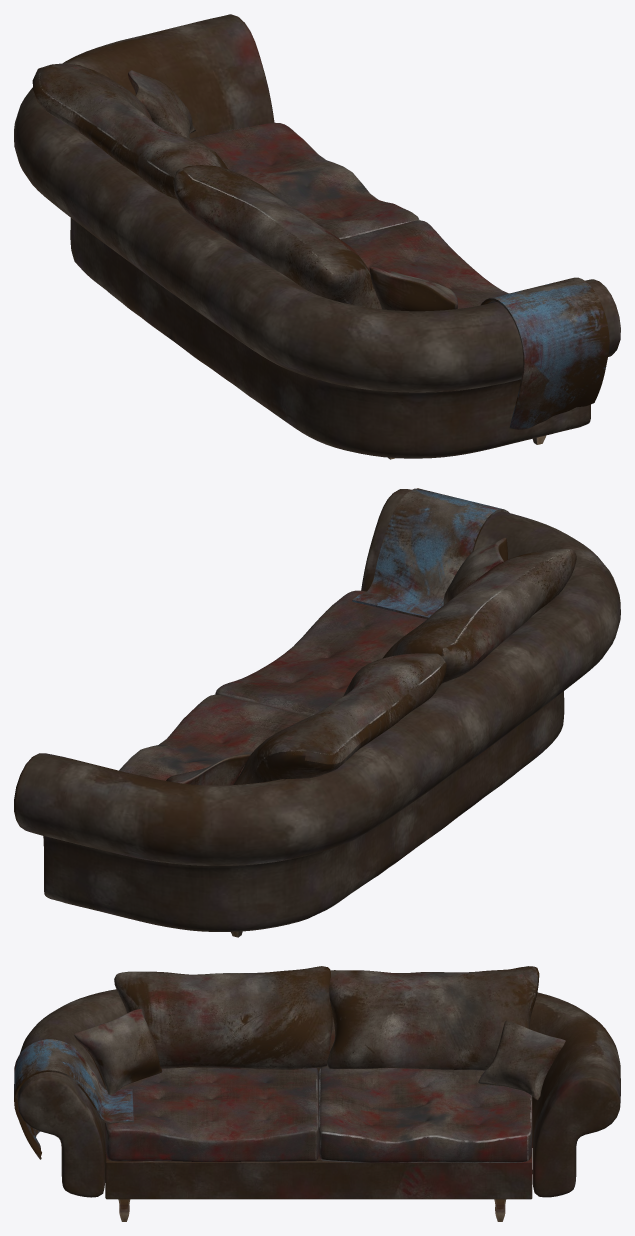
File: sofa.gltf
3 renders of one model, top to bottom at view 1: azimuth 30°, elevation 25°; view 2: azimuth 150°, elevation 25°; view 3: azimuth 270°, elevation 25°, orthographic. The views are drawn at different scales.
Parts seen in each view (by area): view 1: Retopo_sofa_arm.001, Retopo_left large cushion.002, rag.001, cushion_2.001, Retopo_right large cushion, left cushion, Cube_3, cusion; view 2: Retopo_sofa_arm.001, Retopo_right large cushion, left cushion, Retopo_left large cushion.002, rag.001, cushion_2.001, Cube_3, cusion; view 3: Retopo_sofa_arm.001, cushion_2.001, Retopo_left large cushion.002, Retopo_right large cushion, left cushion, Cube_1_2, rag.001, Cube_3, cusion.
Part boxes in pixels (left/top/right/bottom): Retopo_sofa_arm.001: left=14, top=14, right=620, bottom=458; Retopo_left large cushion.002: left=173, top=165, right=381, bottom=309; rag.001: left=481, top=277, right=609, bottom=429; cushion_2.001: left=190, top=122, right=419, bottom=239; Retopo_right large cushion: left=32, top=63, right=227, bottom=199; left cushion: left=341, top=220, right=508, bottom=308; Cube_3: left=369, top=266, right=457, bottom=311; cusion: left=128, top=70, right=195, bottom=138; Retopo_sofa_arm.001: left=14, top=489, right=620, bottom=931; Retopo_right large cushion: left=233, top=653, right=446, bottom=784; left cushion: left=215, top=590, right=426, bottom=716; Retopo_left large cushion.002: left=382, top=548, right=576, bottom=683; rag.001: left=352, top=488, right=509, bottom=619; cushion_2.001: left=119, top=694, right=309, bottom=780; Cube_3: left=443, top=537, right=507, bottom=604; cusion: left=166, top=754, right=250, bottom=785; Retopo_sofa_arm.001: left=17, top=989, right=620, bottom=1197; cushion_2.001: left=318, top=1066, right=532, bottom=1163; Retopo_left large cushion.002: left=114, top=966, right=332, bottom=1069; Retopo_right large cushion: left=327, top=966, right=539, bottom=1070; left cushion: left=105, top=1067, right=318, bottom=1161; Cube_1_2: left=105, top=1151, right=532, bottom=1199; rag.001: left=14, top=1039, right=133, bottom=1159; Cube_3: left=74, top=1008, right=162, bottom=1094; cusion: left=478, top=1020, right=565, bottom=1100.
Bounding box in the file's own units: 1.5 × 1.15 × 3.66.
Materials: 3 (3 with a texture image).
